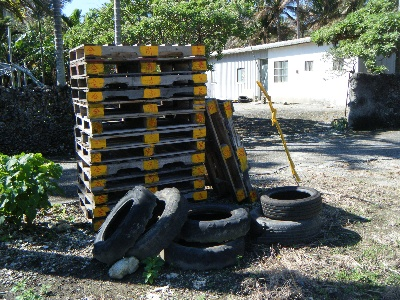tire: (91, 185, 158, 265), (124, 185, 187, 264), (187, 200, 251, 244), (249, 208, 325, 245), (164, 237, 247, 270), (259, 184, 323, 221)
